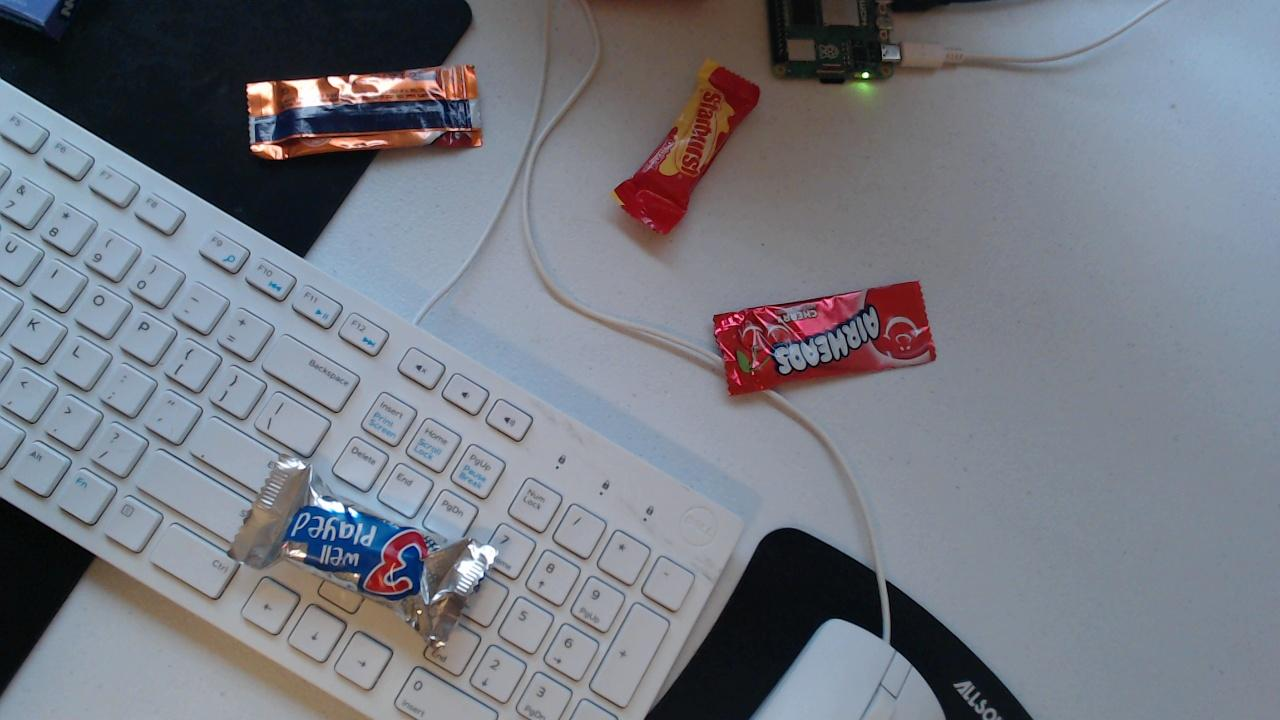airheads: (716, 279, 937, 396), (245, 64, 490, 160)
musketeers: (229, 462, 497, 651)
starburst: (608, 61, 753, 238)
